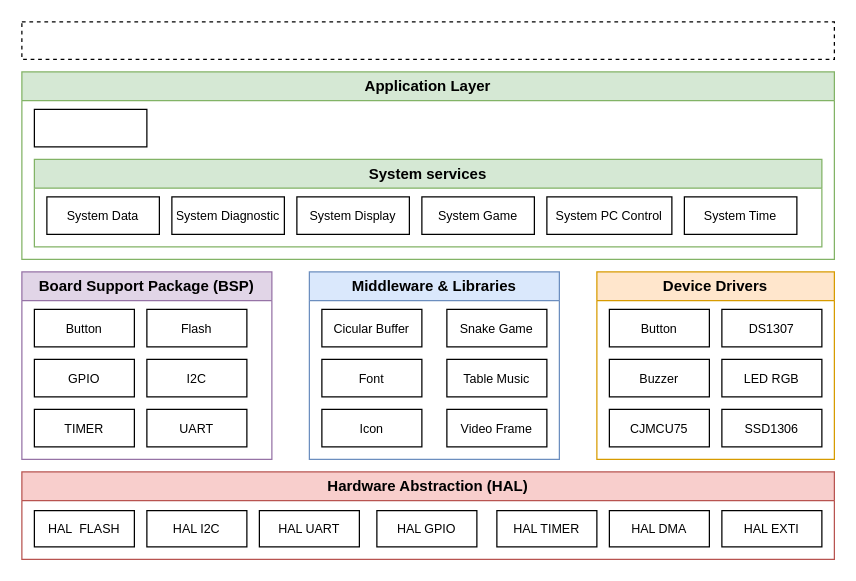
This 856x581 diagram has some shape labels left out. Here are the shapes that lost their labels. From the top down, the centre of each, then its label:
the point at 427,40: FIRMWARE ARCHITECTURE
the point at 90,127: System Manager
